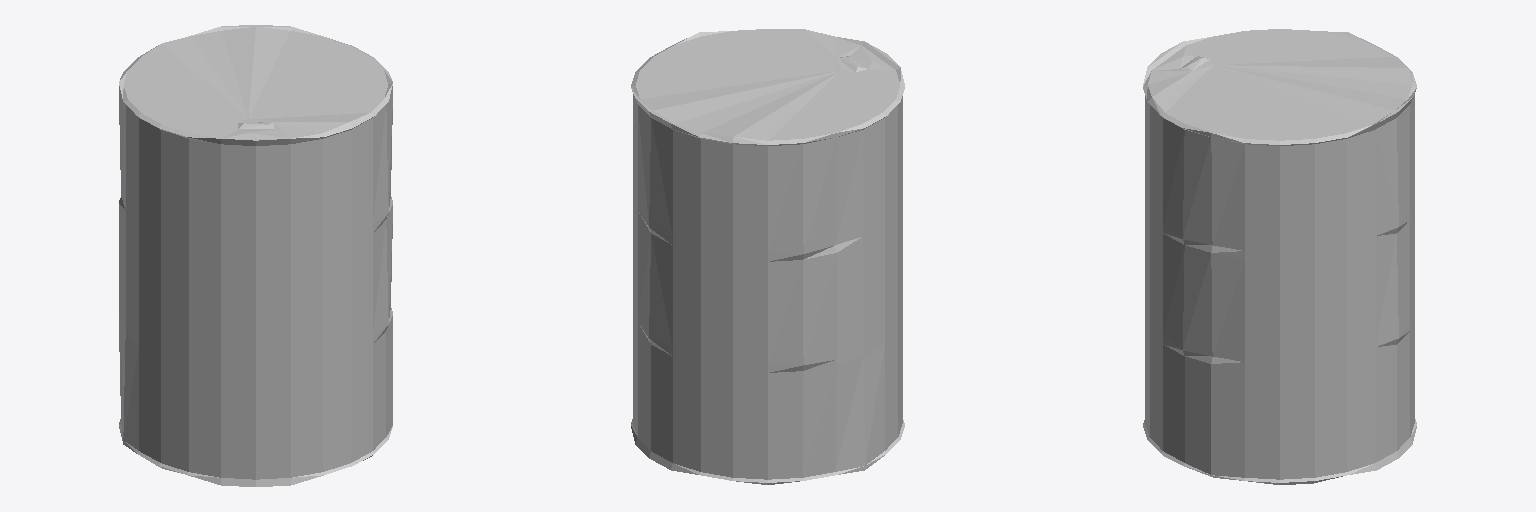
Rendered from oilbarrel2.obj.
3 renders of one model, left to right at view 1: azimuth 30°, elevation 25°; view 2: azimuth 150°, elevation 25°; view 3: azimuth 270°, elevation 25°, orthographic.
Visible parts, largest first — view 1: Barrel02_1 Mesh2 Model polySurface641 polySurface642 polySurface; view 2: Barrel02_1 Mesh2 Model polySurface641 polySurface642 polySurface; view 3: Barrel02_1 Mesh2 Model polySurface641 polySurface642 polySurface.
Boxes of the visible parts, box(x1,y1,x2,y2) form: Barrel02_1 Mesh2 Model polySurface641 polySurface642 polySurface: box(119, 25, 392, 486); Barrel02_1 Mesh2 Model polySurface641 polySurface642 polySurface: box(631, 29, 904, 484); Barrel02_1 Mesh2 Model polySurface641 polySurface642 polySurface: box(1143, 29, 1416, 484).
Size of the model in its own units: 1.92 by 2.67 by 1.92.